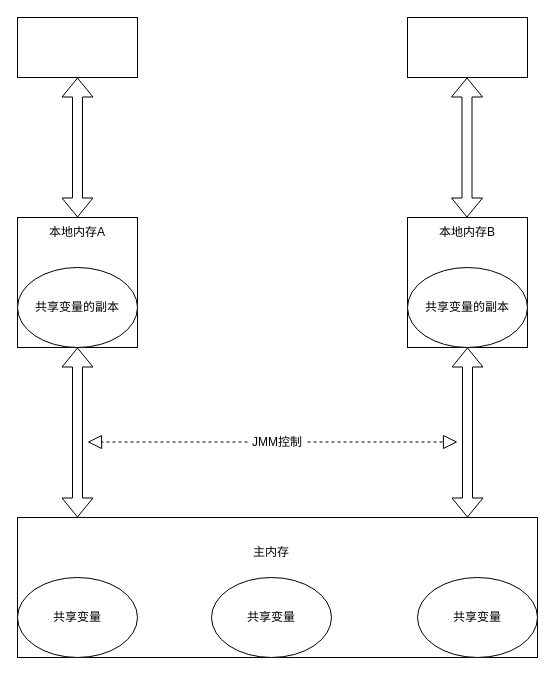
Image size: 555x675. Some labels were removed from this diagram. Each missing label, with the box of its shape:
线程A: (16, 16, 138, 78)
线程B: (406, 16, 528, 78)
